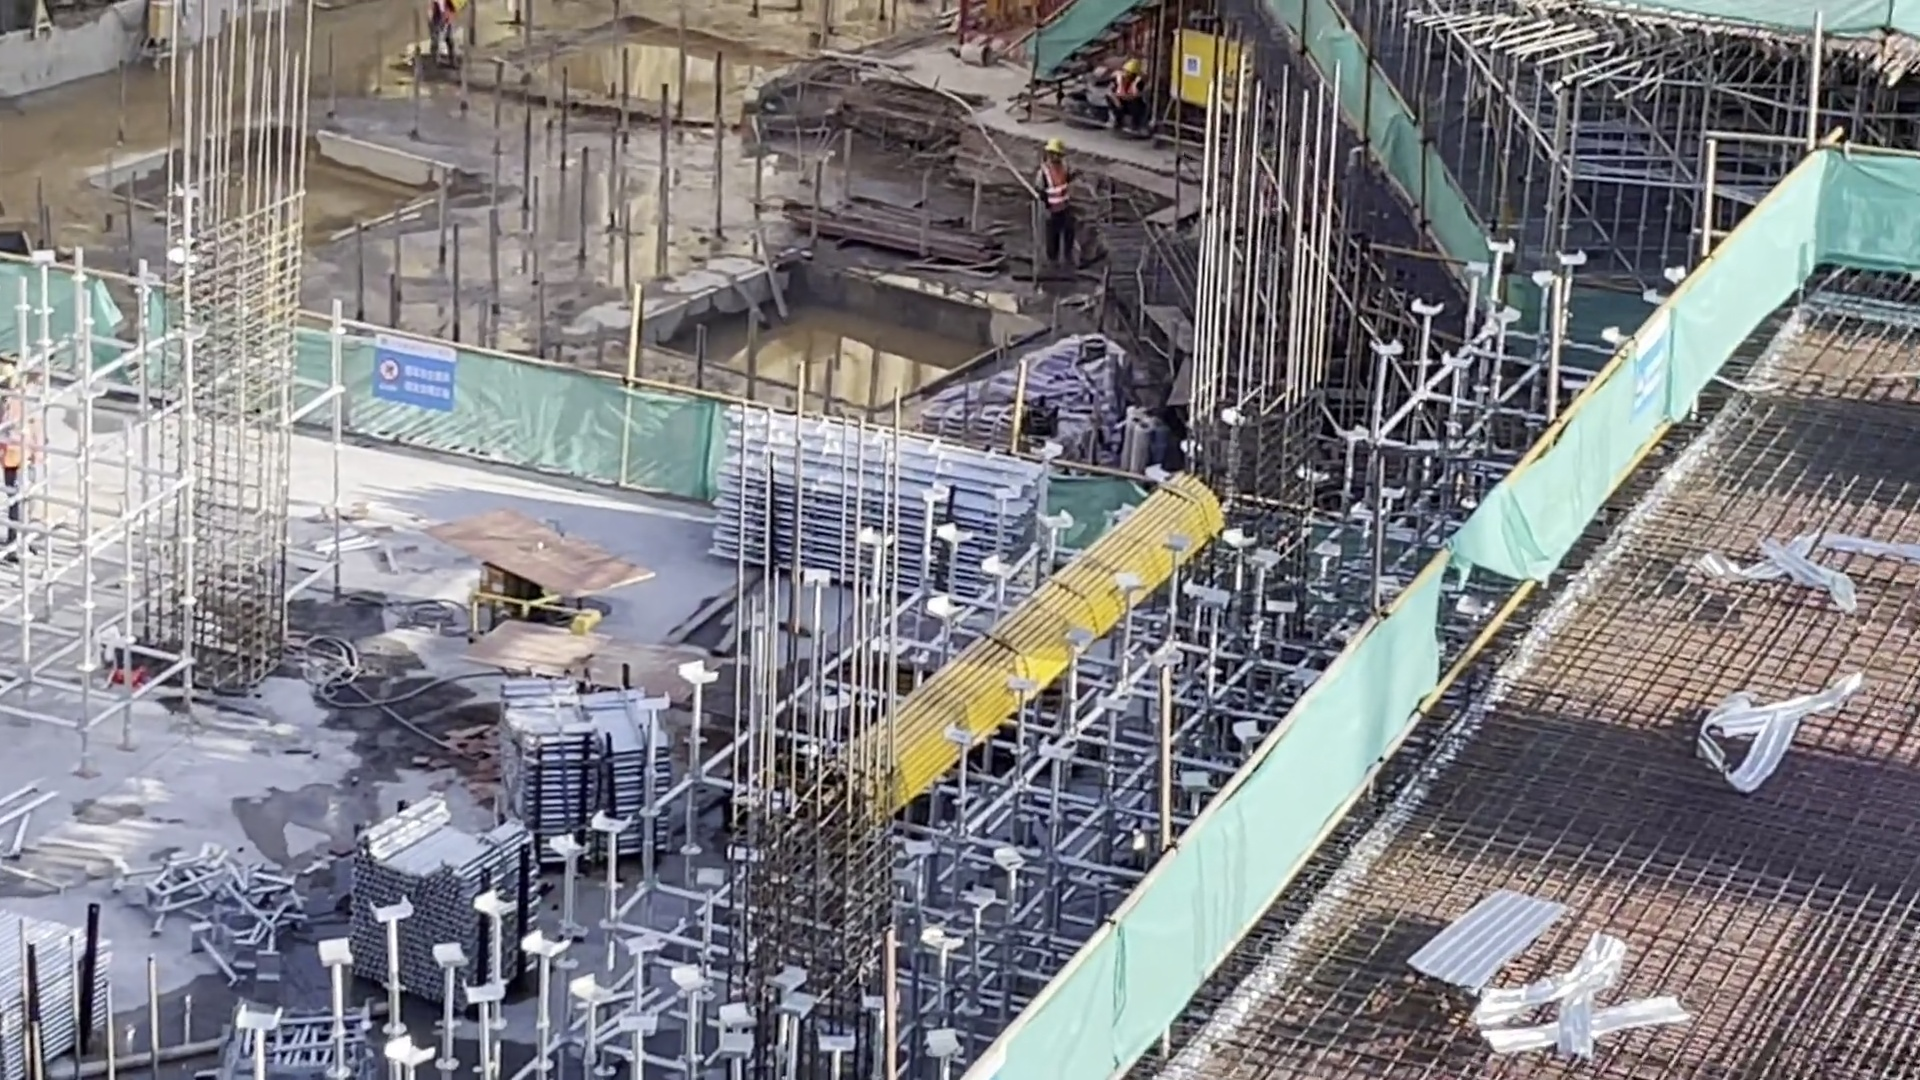cutter: (448, 528, 654, 633), (460, 625, 718, 702)
ebox: (1175, 38, 1251, 113)
helmet: (1, 359, 14, 387), (1047, 144, 1064, 157)
person: (1, 352, 40, 583), (1028, 138, 1082, 272), (403, 1, 473, 79), (1101, 62, 1152, 140)
scaffold: (709, 441, 1008, 560), (337, 824, 527, 979), (533, 695, 684, 835)
slogan: (364, 334, 456, 412), (1627, 343, 1663, 409)
vest: (1, 394, 40, 480), (1037, 164, 1066, 215), (1107, 77, 1143, 101)
